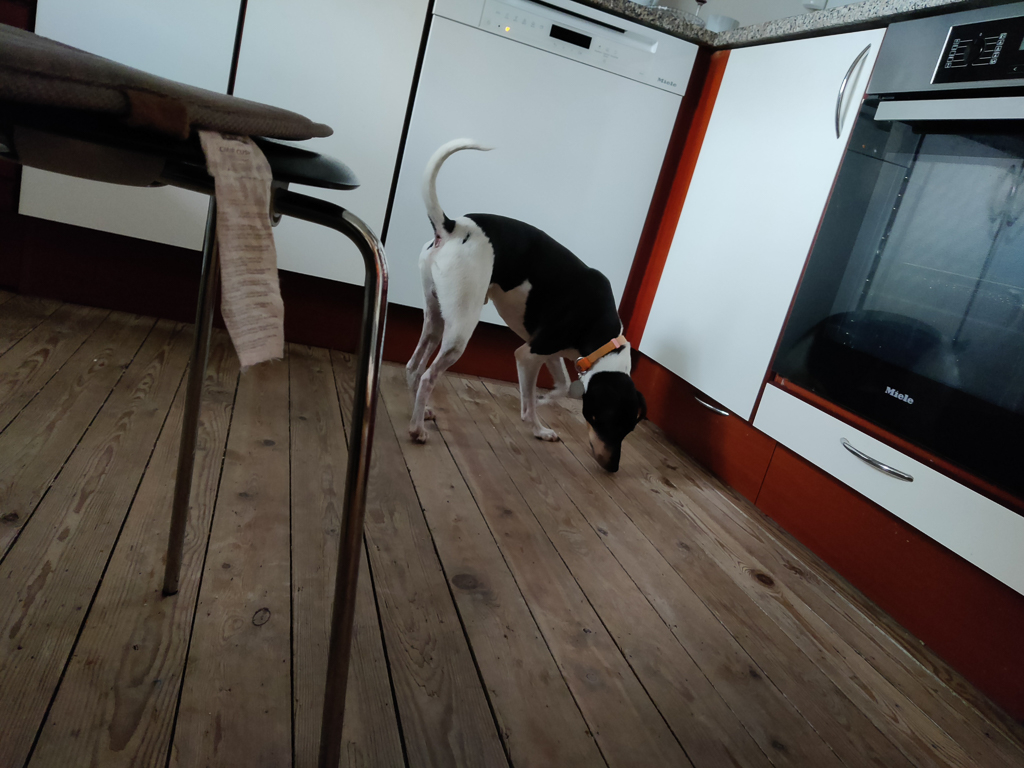Dog: (373, 118, 680, 497)
